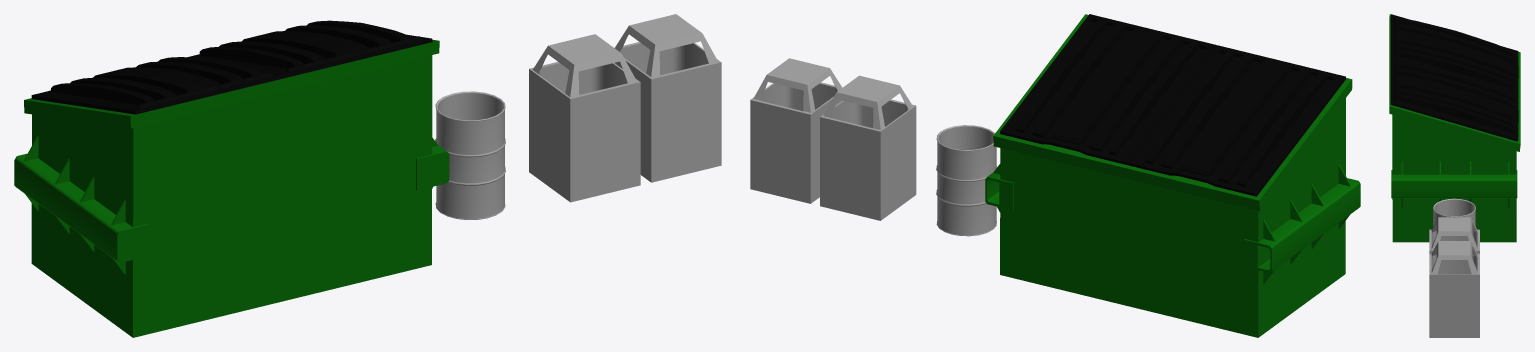
The model's file is DumpsterBarrels.fbx.
The picture shows the model from 3 angles, left to right: view 1: azimuth 30°, elevation 25°; view 2: azimuth 150°, elevation 25°; view 3: azimuth 270°, elevation 25°; orthographic projection. The views are drawn at different scales.
Visible parts, largest first — view 1: polySurface20, TrashCan, Dumpster_Lid_1, polySurface1, Burn_Barrel, polySurface21, polySurface2, polySurface11; view 2: polySurface20, Dumpster_Lid_1, TrashCan, polySurface1, Burn_Barrel, polySurface21, polySurface2, polySurface11; view 3: Dumpster_Lid_1, polySurface20, polySurface1, polySurface21, TrashCan, polySurface2, Burn_Barrel, polySurface11.
Boxes of the visible parts, <box> form: polySurface20: <box>24,39,439,337</box>; TrashCan: <box>529,34,640,202</box>; Dumpster_Lid_1: <box>31,20,432,114</box>; polySurface1: <box>614,42,721,182</box>; Burn_Barrel: <box>435,91,505,219</box>; polySurface21: <box>14,145,449,262</box>; polySurface2: <box>615,14,717,77</box>; polySurface11: <box>24,136,438,274</box>; polySurface20: <box>993,14,1352,337</box>; Dumpster_Lid_1: <box>1000,14,1346,196</box>; TrashCan: <box>820,75,916,220</box>; polySurface1: <box>750,82,842,203</box>; Burn_Barrel: <box>936,125,997,236</box>; polySurface21: <box>985,173,1360,272</box>; polySurface2: <box>753,58,842,112</box>; polySurface11: <box>993,164,1351,284</box>; Dumpster_Lid_1: <box>1390,14,1518,141</box>; polySurface20: <box>1389,14,1520,242</box>; polySurface1: <box>1429,254,1479,337</box>; polySurface21: <box>1391,170,1517,198</box>; TrashCan: <box>1429,217,1479,253</box>; polySurface2: <box>1431,241,1477,273</box>; Burn_Barrel: <box>1433,198,1475,226</box>; polySurface11: <box>1401,161,1509,207</box>.
Bounding box in the file's own units: 21.25 × 7.34 × 6.22.
